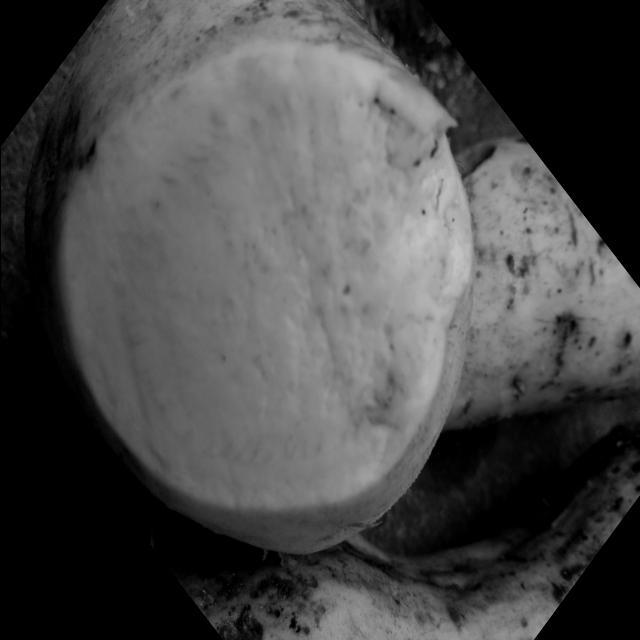Healthy Sweet Potato: (61, 43, 471, 510)
